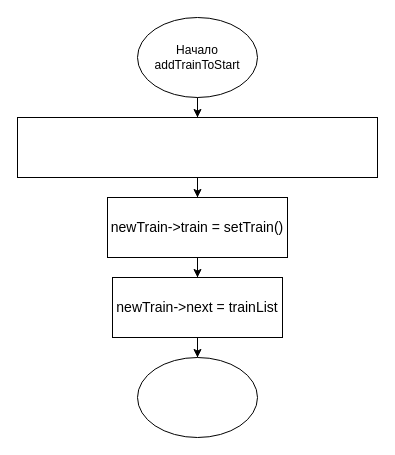
The diagram is 395 pixels wide and 455 high, and some of its shapes have lost their labels. Each missing label, with the centre of its shape:
newTrain = (struct trainList*)malloc(sizeof(struct trainList)): the point at 197,147
Конец: the point at 197,397
